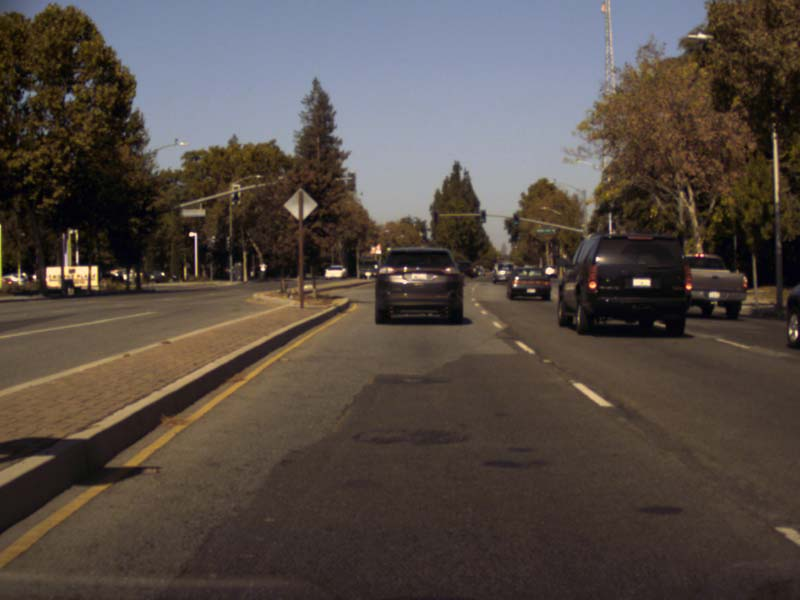Green: (480, 210, 485, 222), (513, 214, 518, 225)
